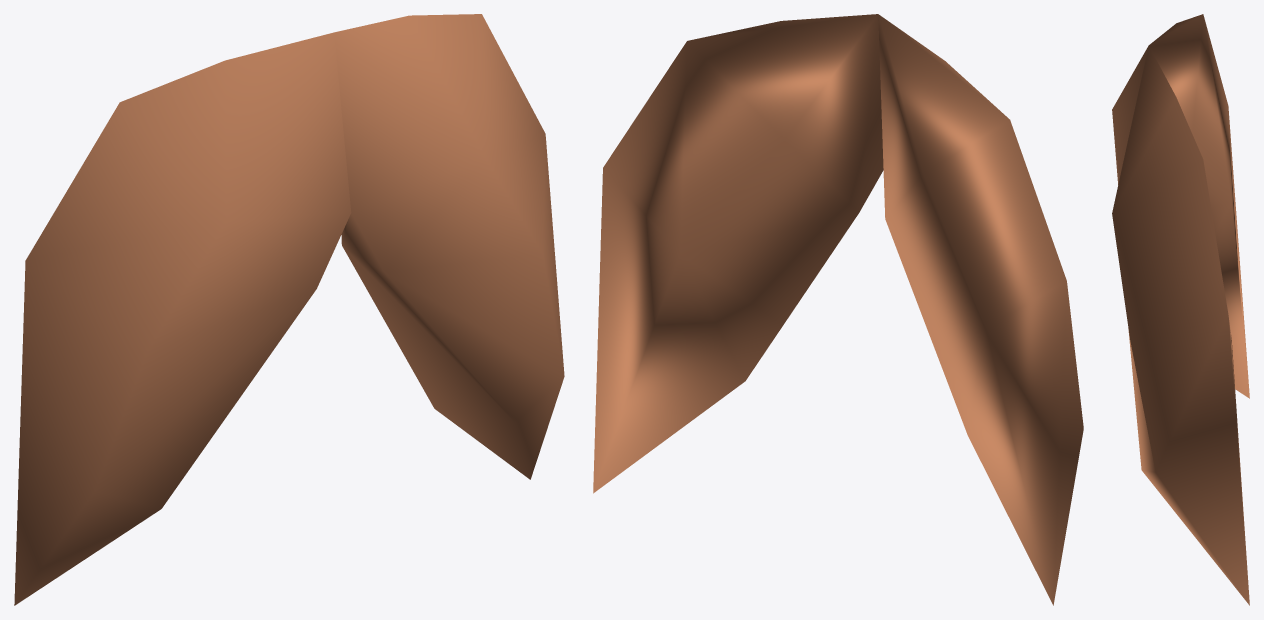
Rendered from SaxonThegnsStache.fbx.
3 renders of one model, left to right at view 1: azimuth 30°, elevation 25°; view 2: azimuth 150°, elevation 25°; view 3: azimuth 270°, elevation 25°, orthographic. The views are drawn at different scales.
Visible parts, largest first — view 1: 02 Beard - Saxon Thegn's Stache; view 2: 02 Beard - Saxon Thegn's Stache; view 3: 02 Beard - Saxon Thegn's Stache.
Boxes of the visible parts, x1,y1,x2,y2 form: 02 Beard - Saxon Thegn's Stache: (14, 14, 564, 605); 02 Beard - Saxon Thegn's Stache: (593, 14, 1083, 605); 02 Beard - Saxon Thegn's Stache: (1112, 14, 1249, 605).
Bounding box in the file's own units: 0.1123 × 0.1147 × 0.0314.
